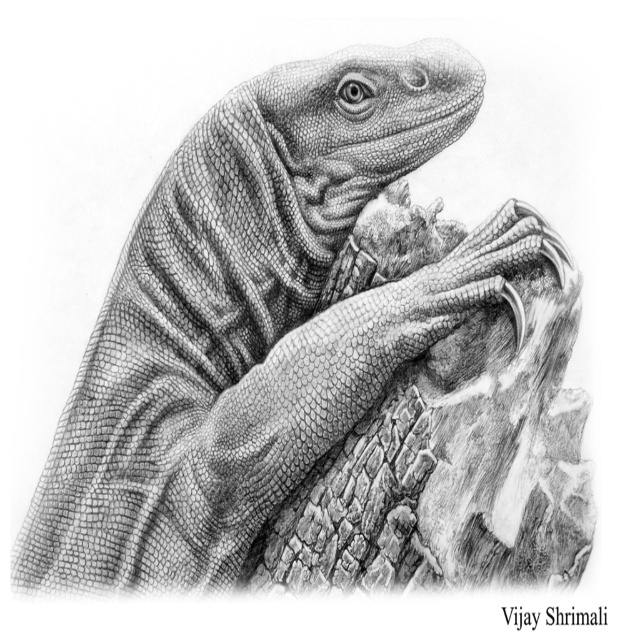Lizard: (9, 36, 571, 594)
